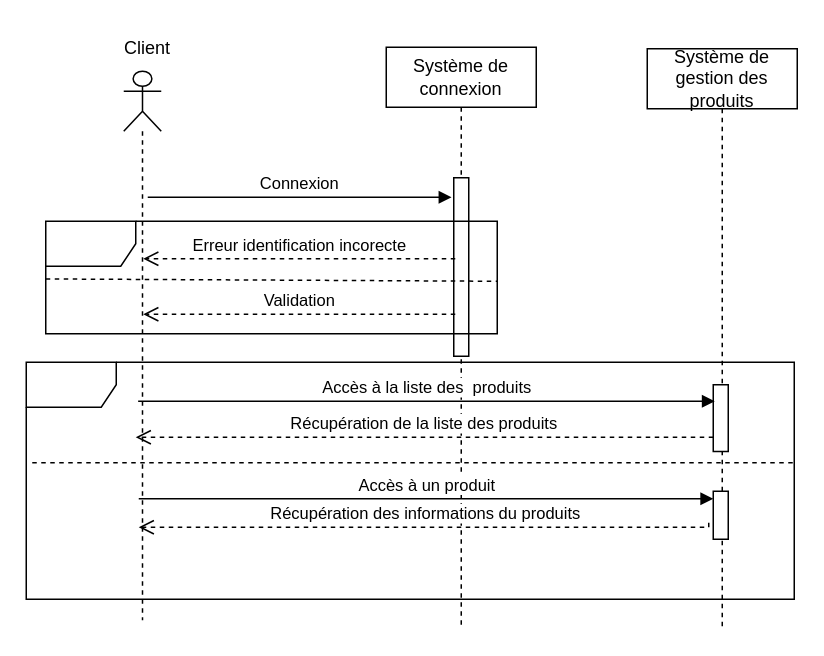
Some shapes in this 824 by 656 pixel diagram are drawn without their labels. Each missing label, with the centre of its shape:
"alt" belongs at (x=270, y=277).
"opt" belongs at (x=409, y=480).
